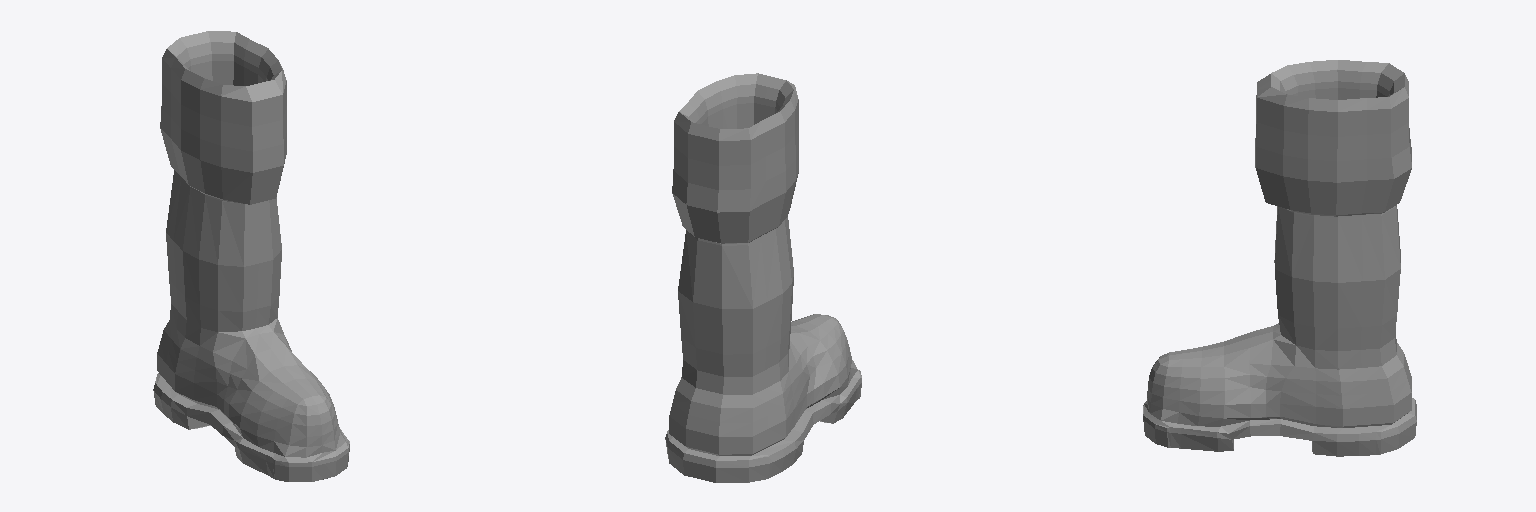
The model's file is boots.obj.
The picture shows the model from 3 angles: view 1: azimuth 30°, elevation 25°; view 2: azimuth 150°, elevation 25°; view 3: azimuth 270°, elevation 25°; orthographic projection.
Parts seen in each view (by area): view 1: Cube; view 2: Cube; view 3: Cube.
Part boxes in pixels (x1,y1,x2,y2): Cube: (153, 31, 349, 481); Cube: (665, 73, 861, 482); Cube: (1143, 60, 1416, 456).
Size of the model in its own units: 2.55 by 7.55 by 5.32.